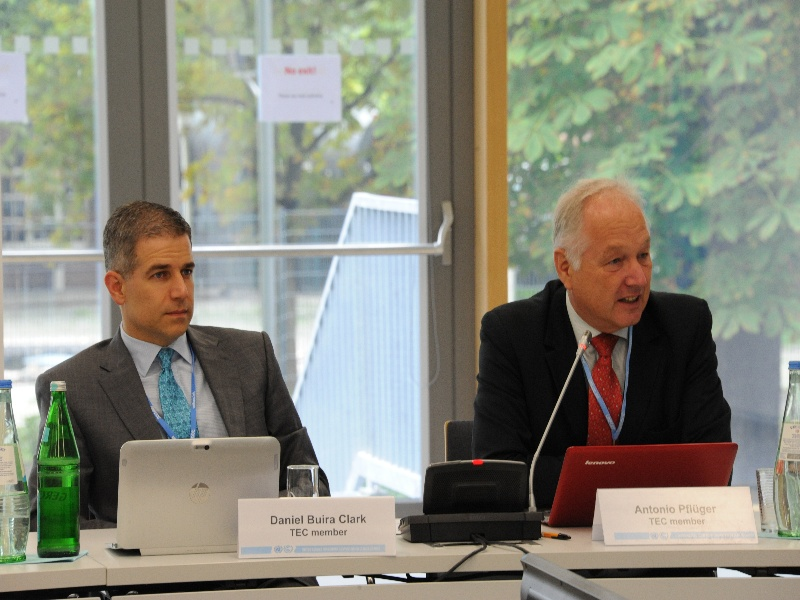face: (96, 206, 208, 340), (560, 197, 661, 327)
